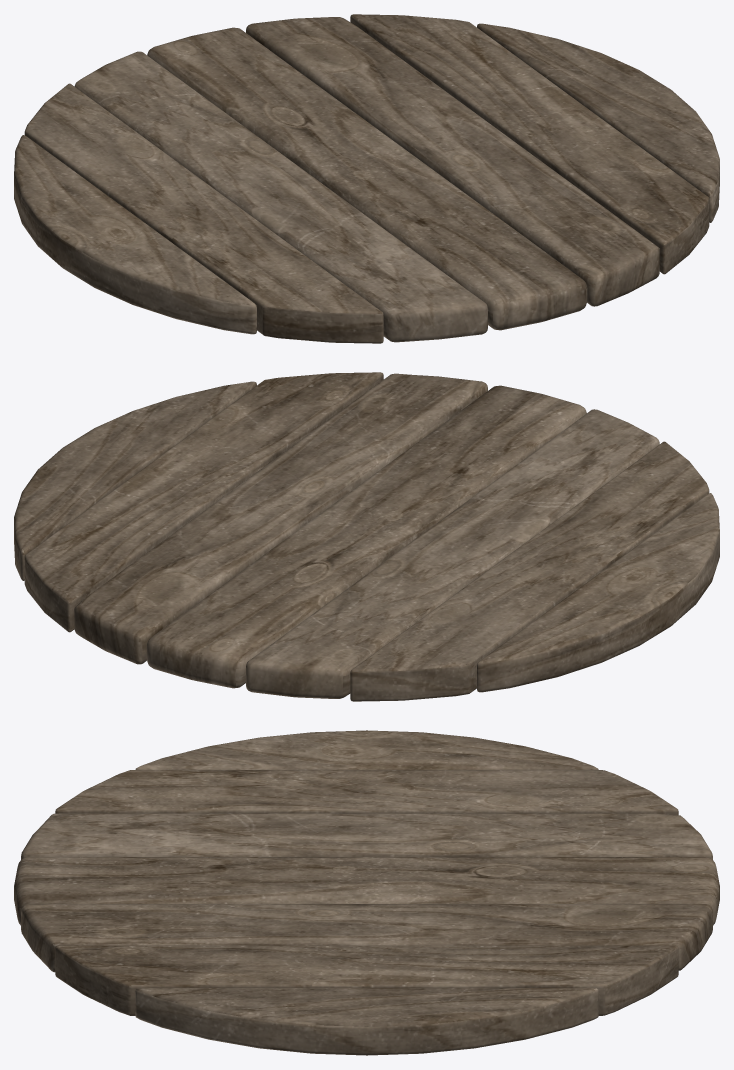
File: round_bevel.glb
The picture shows the model from 3 angles, top to bottom: view 1: azimuth 30°, elevation 25°; view 2: azimuth 150°, elevation 25°; view 3: azimuth 270°, elevation 25°; orthographic projection.
Visible parts, largest first — view 1: RoundTableA; view 2: RoundTableA; view 3: RoundTableA.
Part boxes in pixels (bbox=[...]): RoundTableA: bbox=[14, 14, 719, 343]; RoundTableA: bbox=[14, 372, 719, 701]; RoundTableA: bbox=[14, 730, 719, 1055].
Bounding box in the file's own units: 99.51 × 5 × 100.
Materials: 1 (1 with a texture image).
